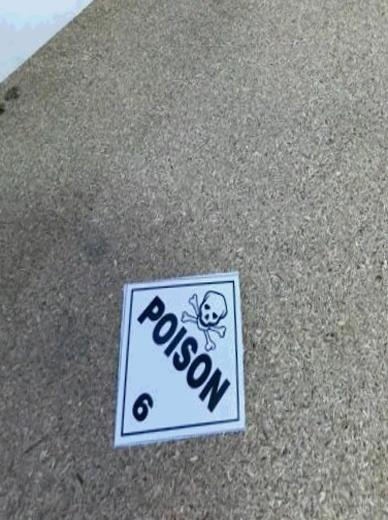poison: (113, 275, 250, 443)
